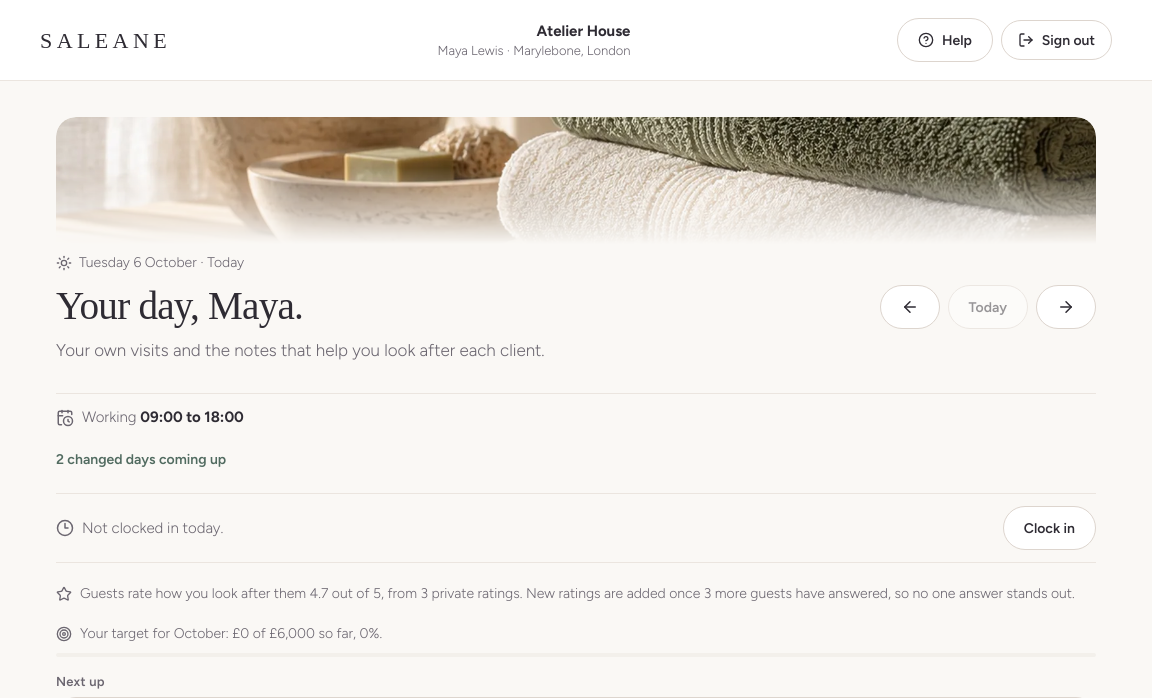
pocket view: moves between days with buttons and a today shortcut
The width and height of the screenshot is (1152, 698).
Click the button named "Previous day".
click(910, 307)  # box [880, 285, 940, 329]
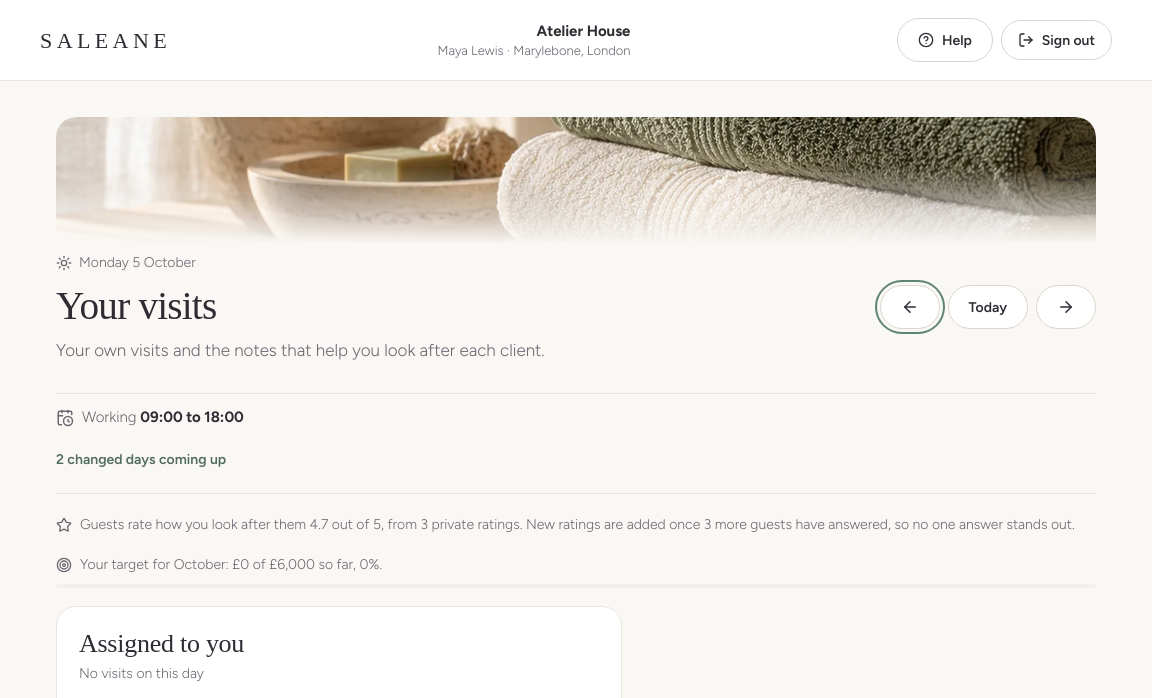
Expected: the heading "Next up" is gone
Expected: the heading "Your visits" is shown, [56, 284, 216, 327]
Click the button "Today".
click(988, 307)  # box [948, 285, 1028, 329]
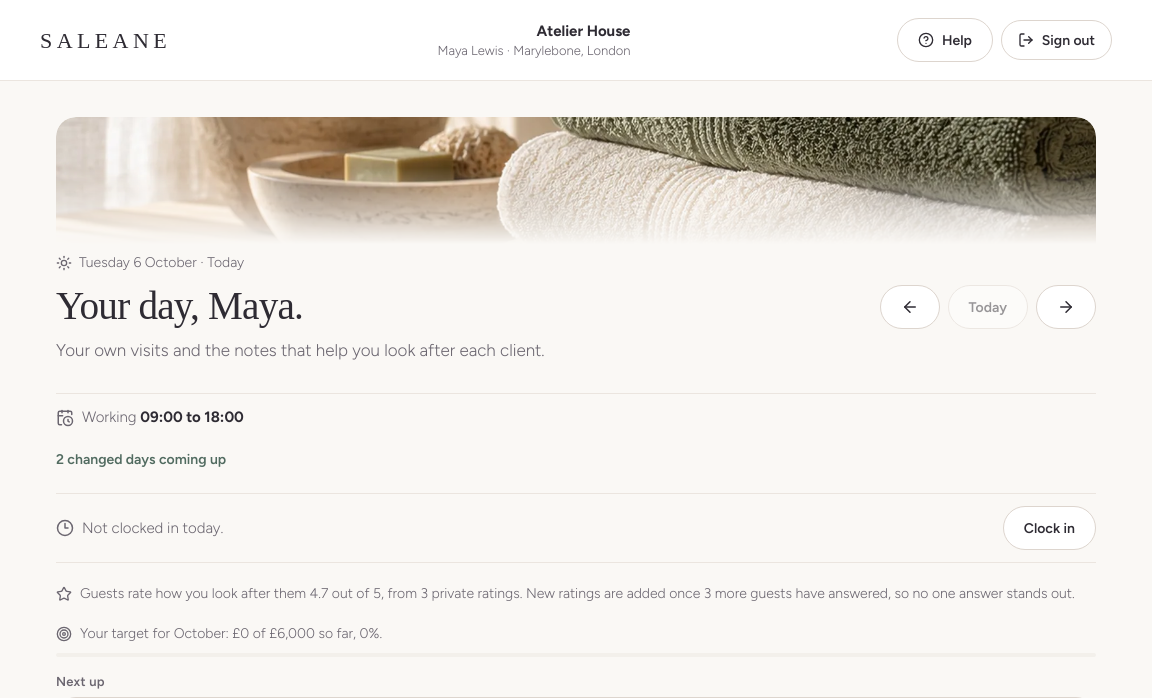
Expected: the heading "Your day, Maya." is shown, [56, 284, 303, 327]
Expected: the button "Today" is disabled, [948, 285, 1028, 329]
